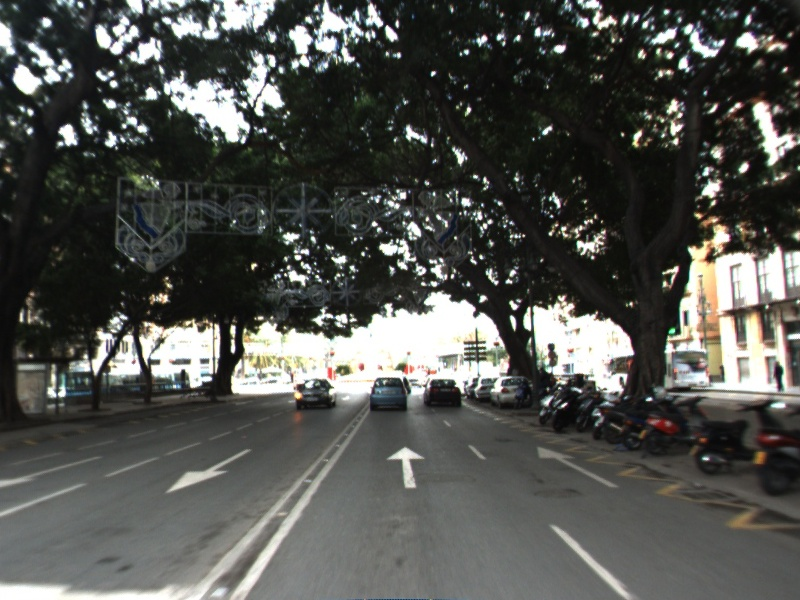STRAIGHT: (534, 444, 622, 490), (384, 444, 428, 490)
